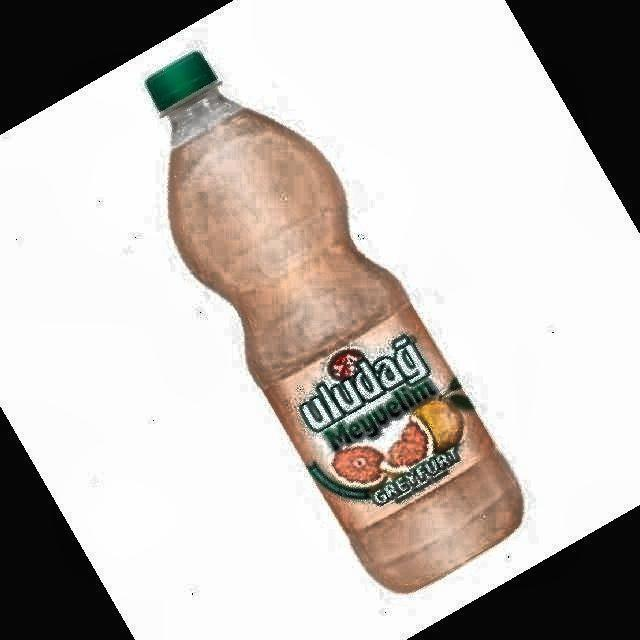plastic: (146, 52, 522, 591)
